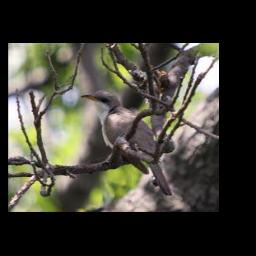Cuckoo: (79, 87, 172, 199)
